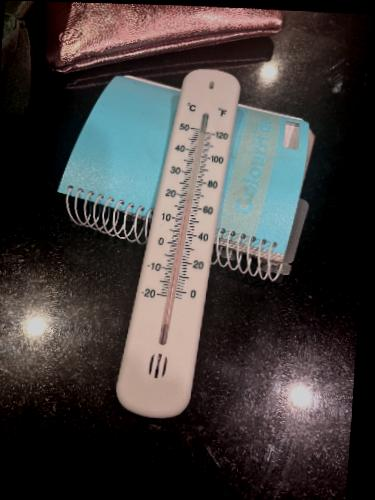thermo: (110, 62, 263, 428)
